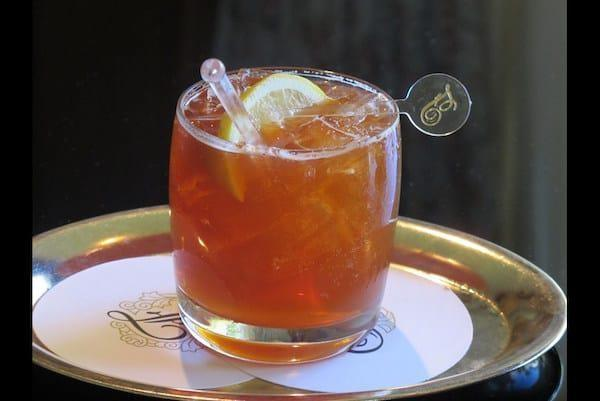glass-normal: (163, 66, 401, 370)
